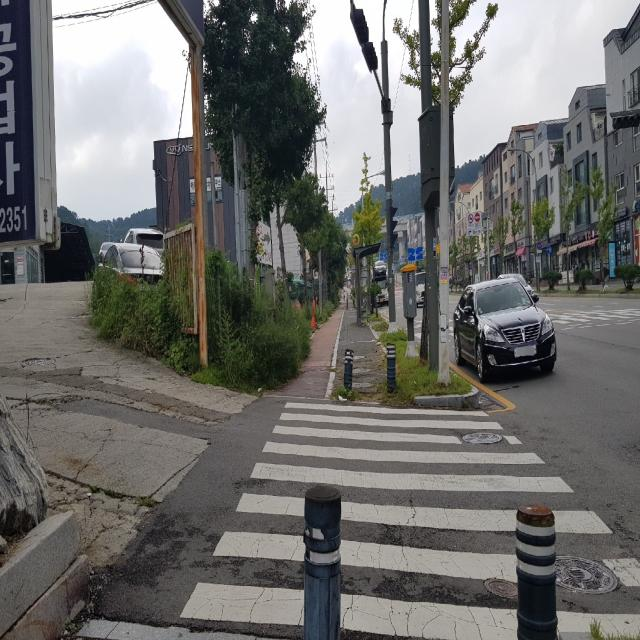횡단보도: (179, 400, 640, 640), (556, 316, 636, 328)
